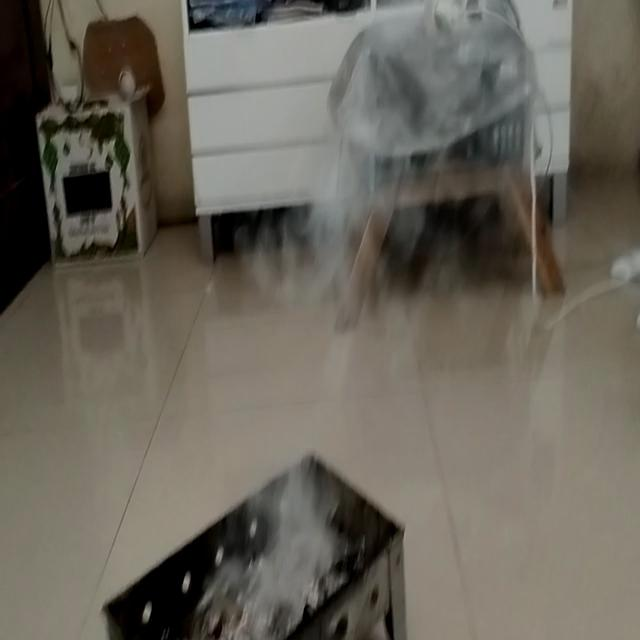smoke: (256, 27, 444, 610)
